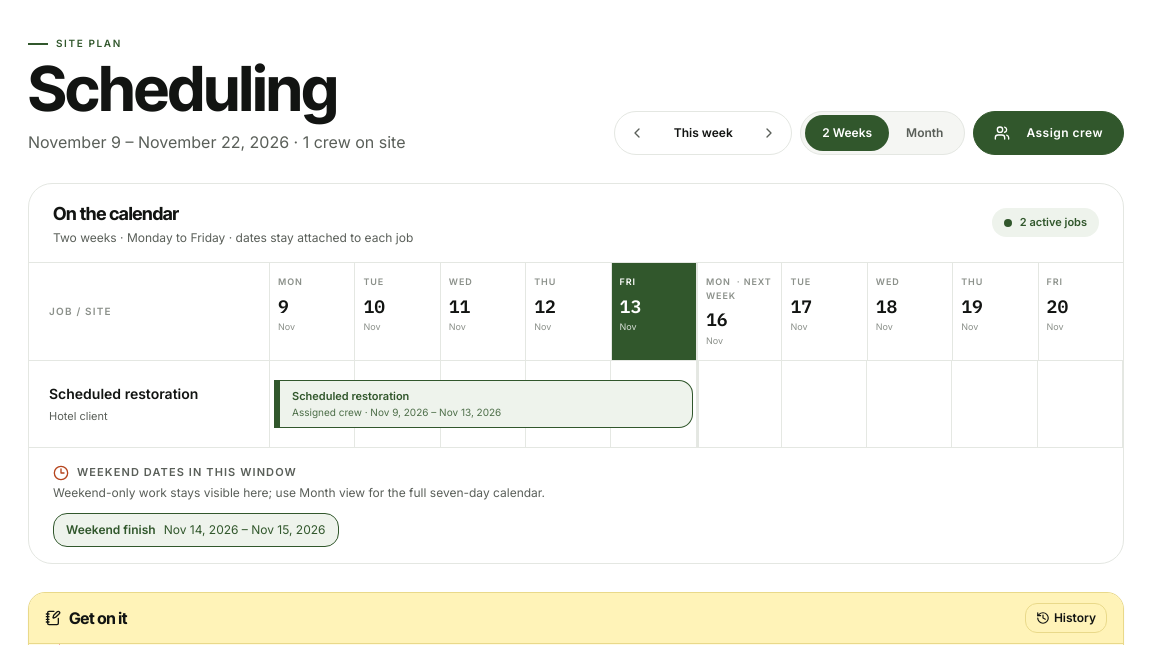
Scheduling redesign › moves by complete fortnights and resets to this week
Expected: the link with test id "job-block-scheduled" is shown, [274, 380, 692, 428]
Click the button with test id "button-next-period".
click(769, 133)  # box [751, 115, 787, 151]
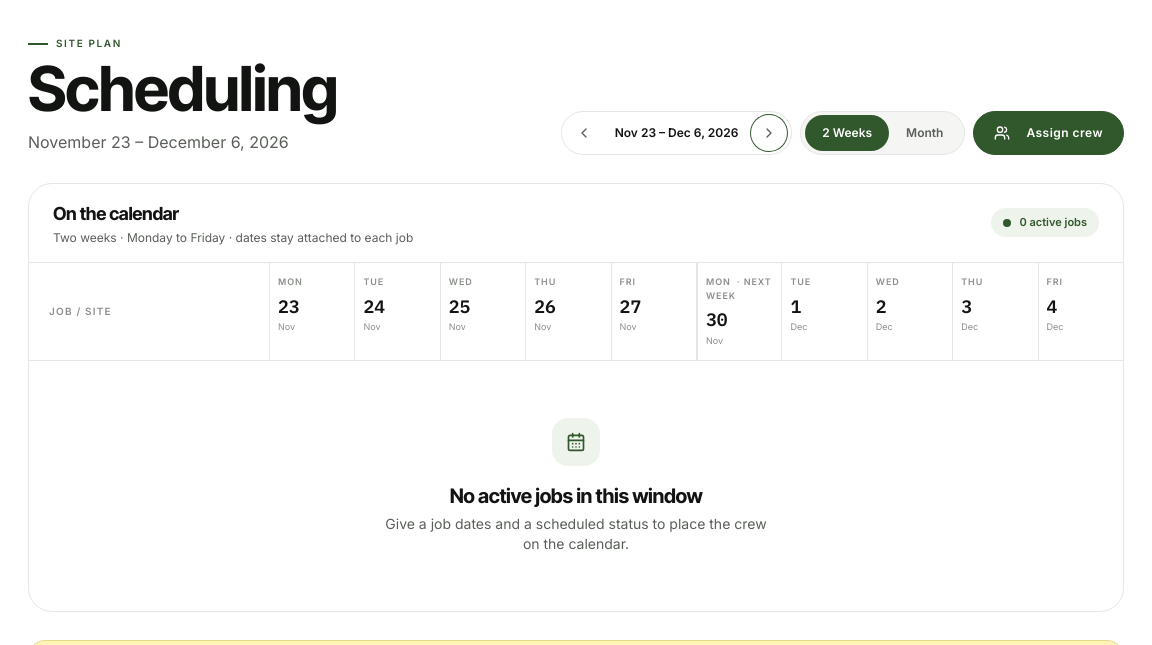
Now the element with test id "scheduling-empty" is shown, box [385, 418, 767, 552]
Click the button with test id "button-prev-period".
click(584, 133)  # box [566, 115, 602, 151]
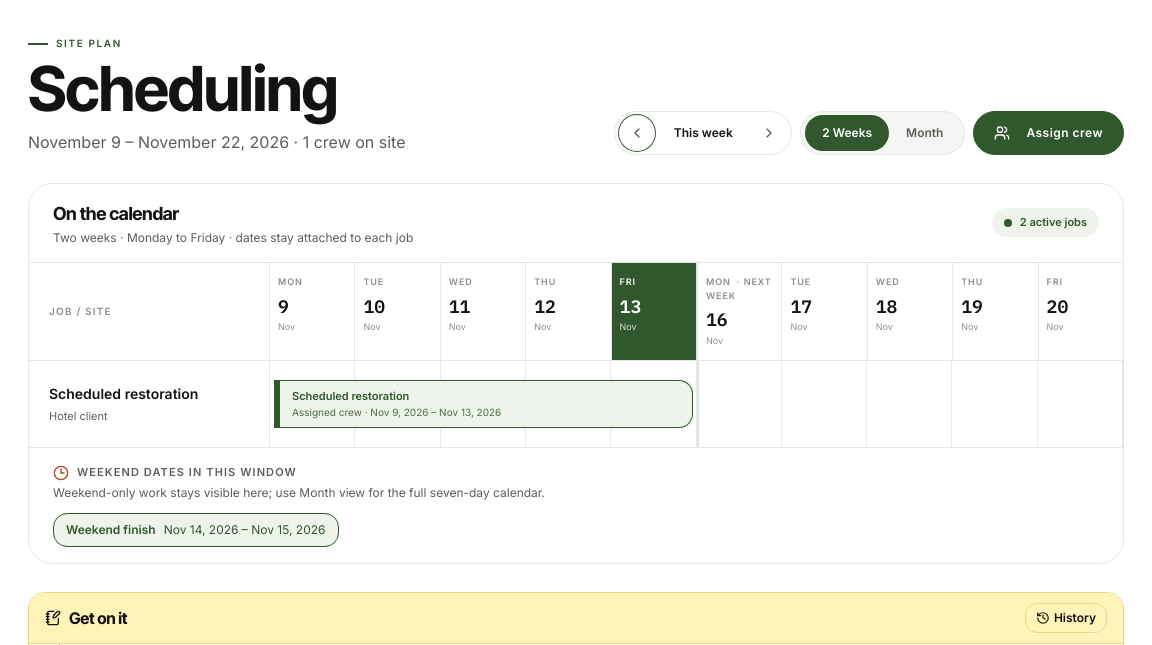
Now the link with test id "job-block-scheduled" is shown, box [274, 380, 692, 428]
Click the button with test id "button-prev-period".
click(637, 133)  # box [619, 115, 655, 151]
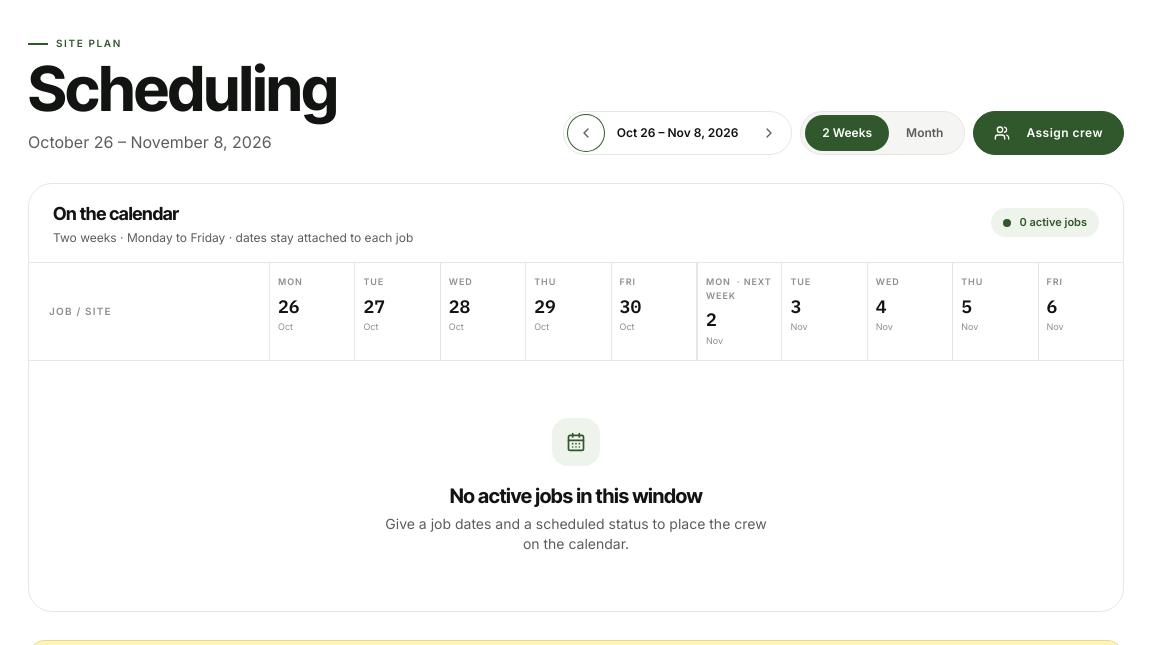
Click the button with test id "button-today".
click(678, 133)  # box [604, 115, 751, 151]
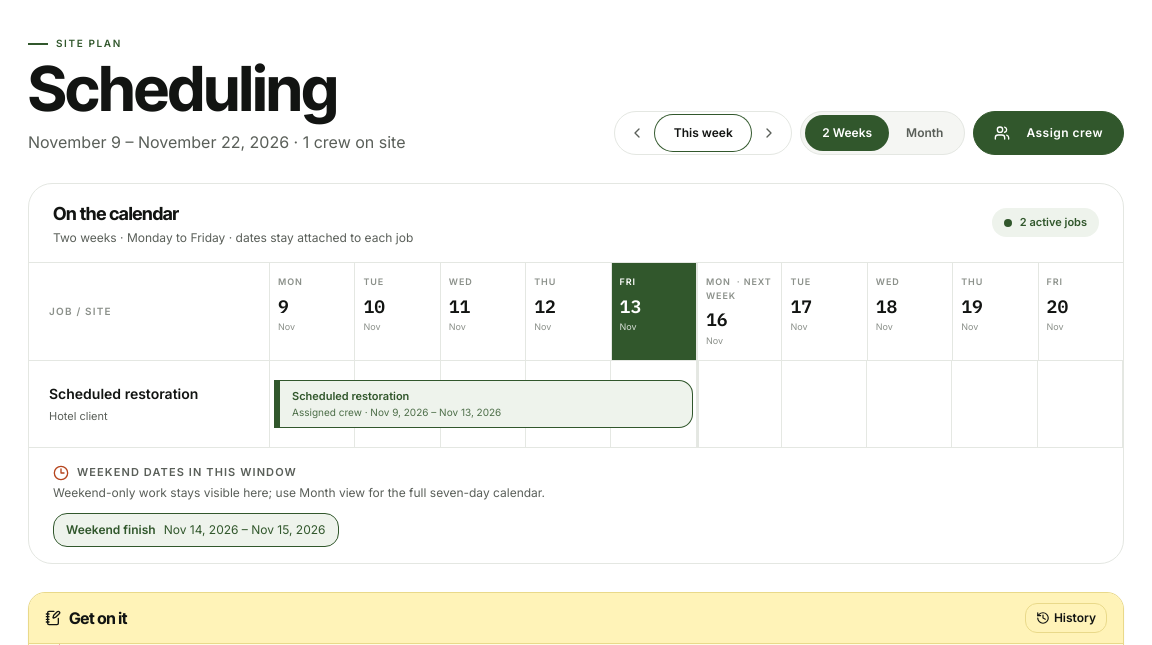
Now the button with test id "button-today" reads "This week", box [655, 115, 751, 151]
